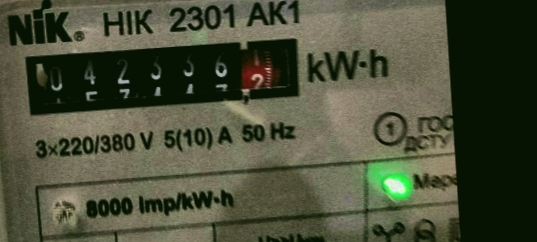0: (43, 63, 61, 92)
1: (245, 44, 259, 67)
2: (111, 55, 128, 85), (245, 70, 262, 89)
3: (174, 48, 192, 79), (142, 52, 159, 81)
4: (77, 56, 95, 86)
6: (208, 47, 227, 78)
screen: (10, 24, 310, 124)
